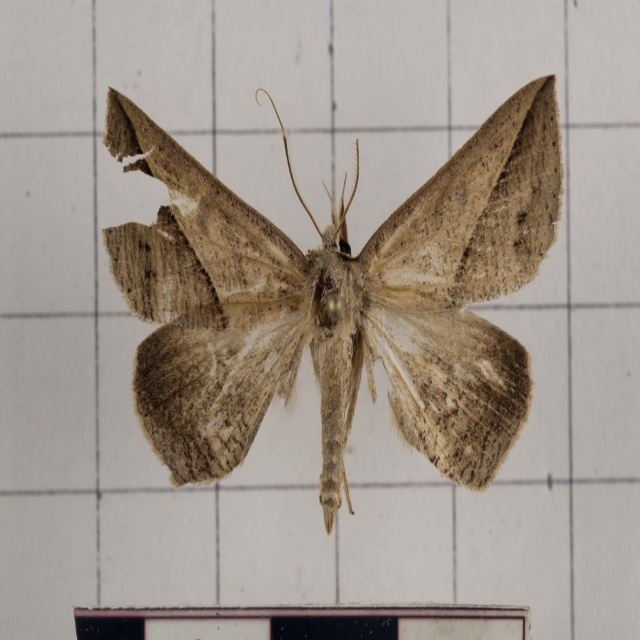Butterfly: (108, 63, 565, 538)
